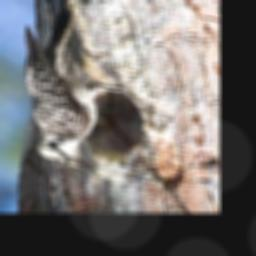Woodpecker: (16, 0, 124, 178)
